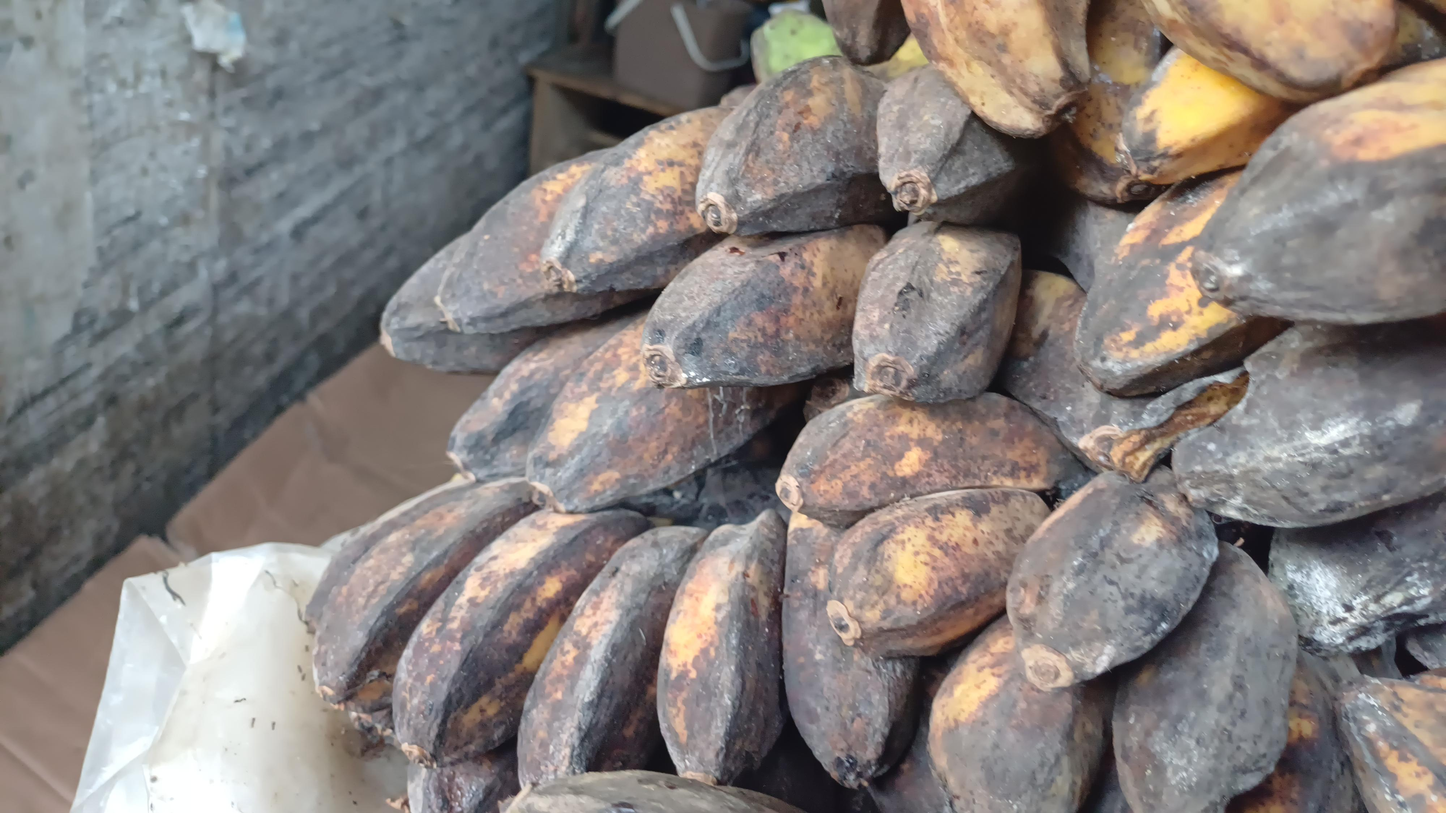overripe: (383, 56, 1031, 511), (1076, 51, 1446, 654), (777, 393, 1298, 813), (305, 478, 946, 813)
ripe: (823, 0, 1446, 203)
